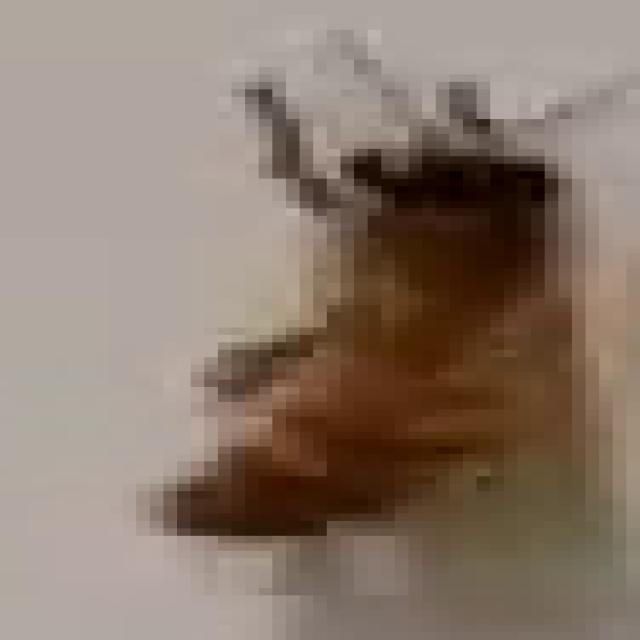honeybee: (135, 83, 614, 562)
